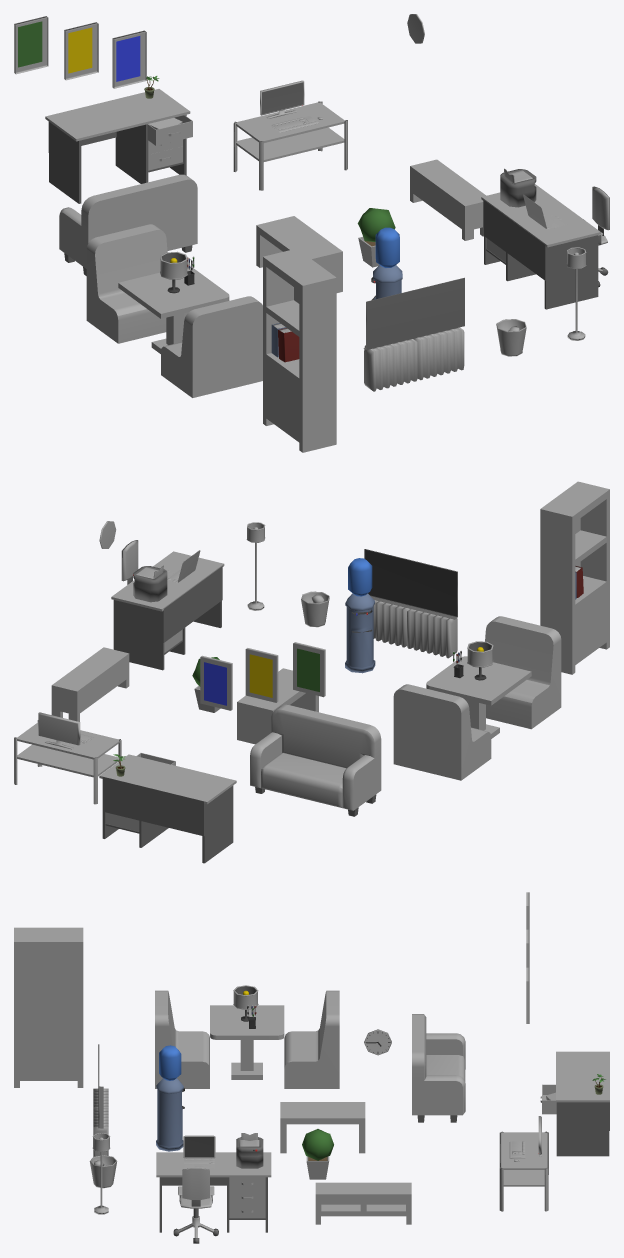
Rendered from props.fbx.
3 views of the same model, one above another, from view 1: azimuth 30°, elevation 25°; view 2: azimuth 150°, elevation 25°; view 3: azimuth 270°, elevation 25° (orthographic). The views are drawn at different scales.
Visible parts, largest first — view 1: Caffee_table, Table02 (×3), pCube6, Table01 (×2), Sofa, pasted__Plane.097, pasted__Cube.005, TV_table, Chair03, polySurface3_2, polySurface3_1, polySurface3_3 (+10 smaller); view 2: Caffee_table, Table02 (×3), pCube6, Sofa, Table01 (×2), pasted__Plane.097, TV_table, pasted__Cube.005, Chair03, Water02, polySurface3_2, polySurface3_3 (+8 smaller); view 3: pCube6, Caffee_table, Table01 (×2), Table02 (×3), Sofa, TV_table, Chair03, Water02, Chair01, Laptop, Printer, pCube5 (+5 smaller).
Part boxes in pixels (<box>): Caffee_table: <box>86,224,262,397</box>; Table02 (×3): <box>48,101,598,309</box>; pCube6: <box>263,248,336,452</box>; Table01 (×2): <box>45,89,600,262</box>; Sofa: <box>59,174,197,275</box>; pasted__Plane.097: <box>363,277,464,349</box>; pasted__Cube.005: <box>364,327,464,391</box>; TV_table: <box>410,159,485,240</box>; Chair03: <box>256,216,342,292</box>; polySurface3_2: <box>64,22,98,80</box>; polySurface3_1: <box>112,30,146,88</box>; polySurface3_3: <box>14,16,48,74</box>; Caffee_table: <box>393,616,561,780</box>; Table02 (×3): <box>14,566,233,863</box>; pCube6: <box>540,481,609,674</box>; Sofa: <box>250,704,381,816</box>; Table01 (×2): <box>99,551,236,831</box>; pasted__Plane.097: <box>364,549,457,619</box>; TV_table: <box>51,647,129,721</box>; pasted__Cube.005: <box>373,600,457,658</box>; Chair03: <box>237,668,318,744</box>; Water02: <box>345,593,375,673</box>; polySurface3_2: <box>245,648,278,702</box>; polySurface3_3: <box>293,642,325,697</box>; pCube6: <box>14,927,83,1087</box>; Caffee_table: <box>155,990,339,1088</box>; Table01 (×2): <box>156,1051,609,1218</box>; Table02 (×3): <box>159,1102,609,1232</box>; Sofa: <box>412,1014,465,1122</box>; TV_table: <box>315,1182,411,1224</box>; Chair03: <box>280,1102,365,1153</box>; Water02: <box>156,1078,183,1151</box>; Chair01: <box>178,1168,214,1237</box>; Laptop: <box>183,1135,215,1168</box>; Printer: <box>236,1133,263,1168</box>; pCube5: <box>302,1129,333,1160</box>.
Bounding box in the file's own units: 1043 × 481 × 1410.
